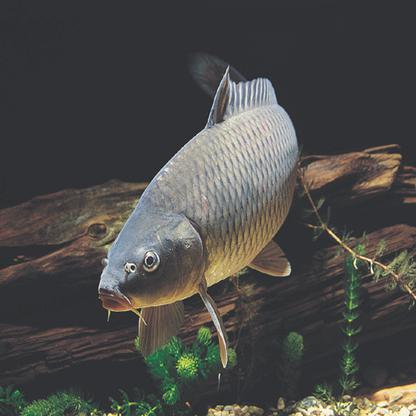fish: (94, 50, 300, 355)
